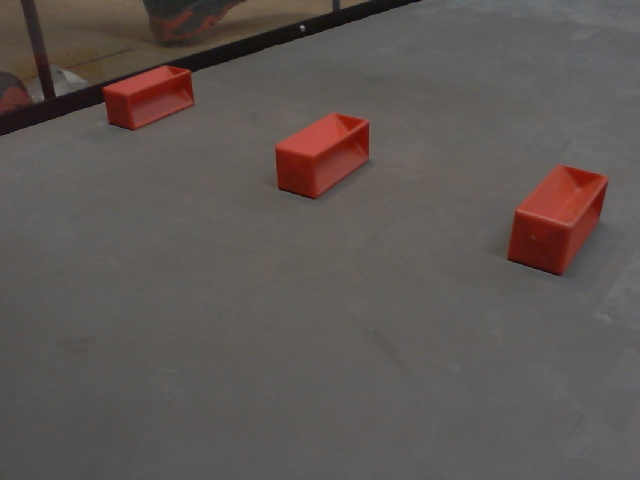RedSample: (506, 164, 610, 274), (273, 111, 373, 205), (102, 61, 195, 133)
